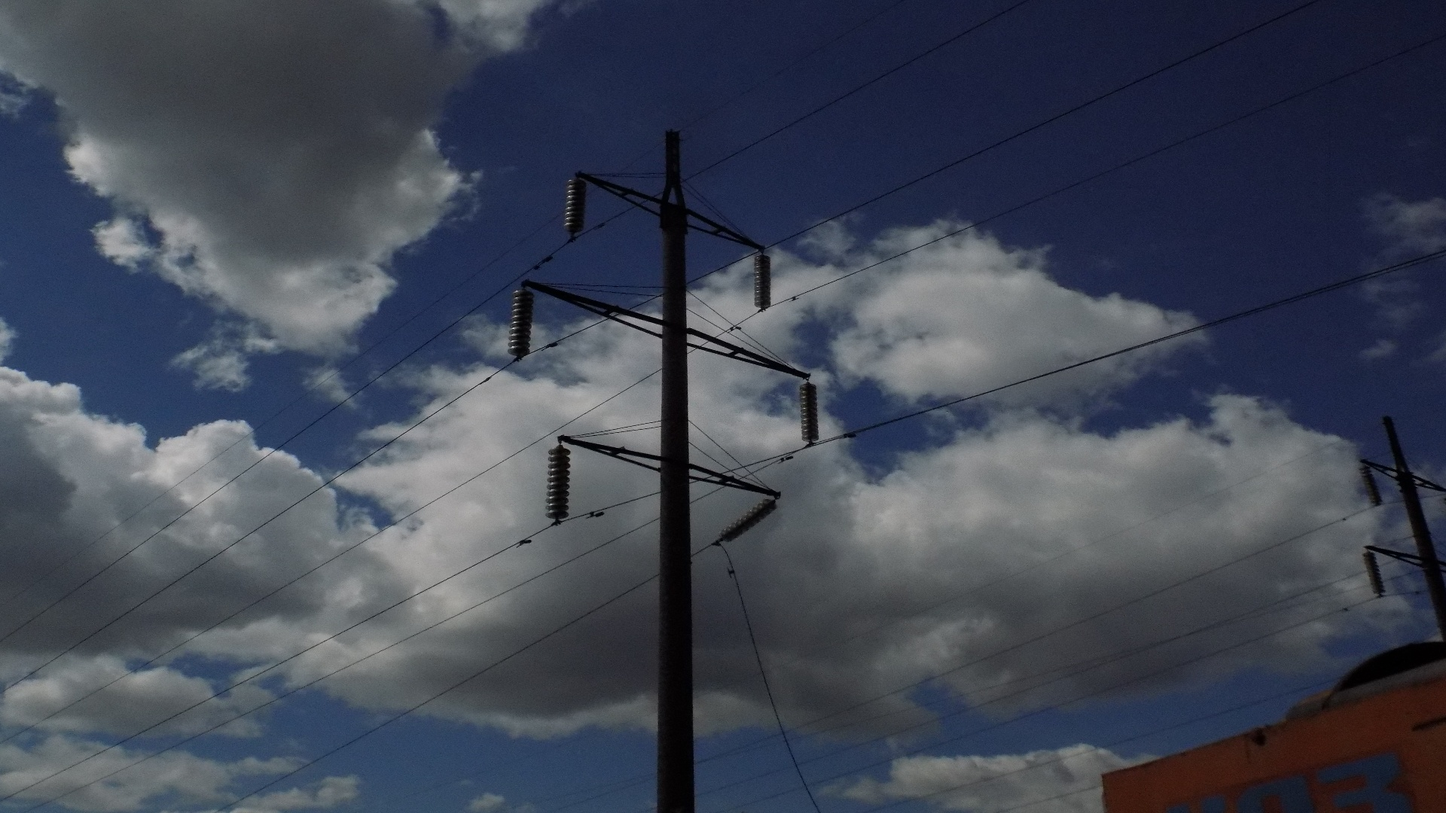insulator: (717, 497, 777, 544), (542, 445, 573, 522), (505, 288, 537, 358), (561, 175, 588, 235), (797, 380, 821, 444), (752, 252, 774, 310), (1358, 464, 1386, 507), (1362, 550, 1387, 598)
